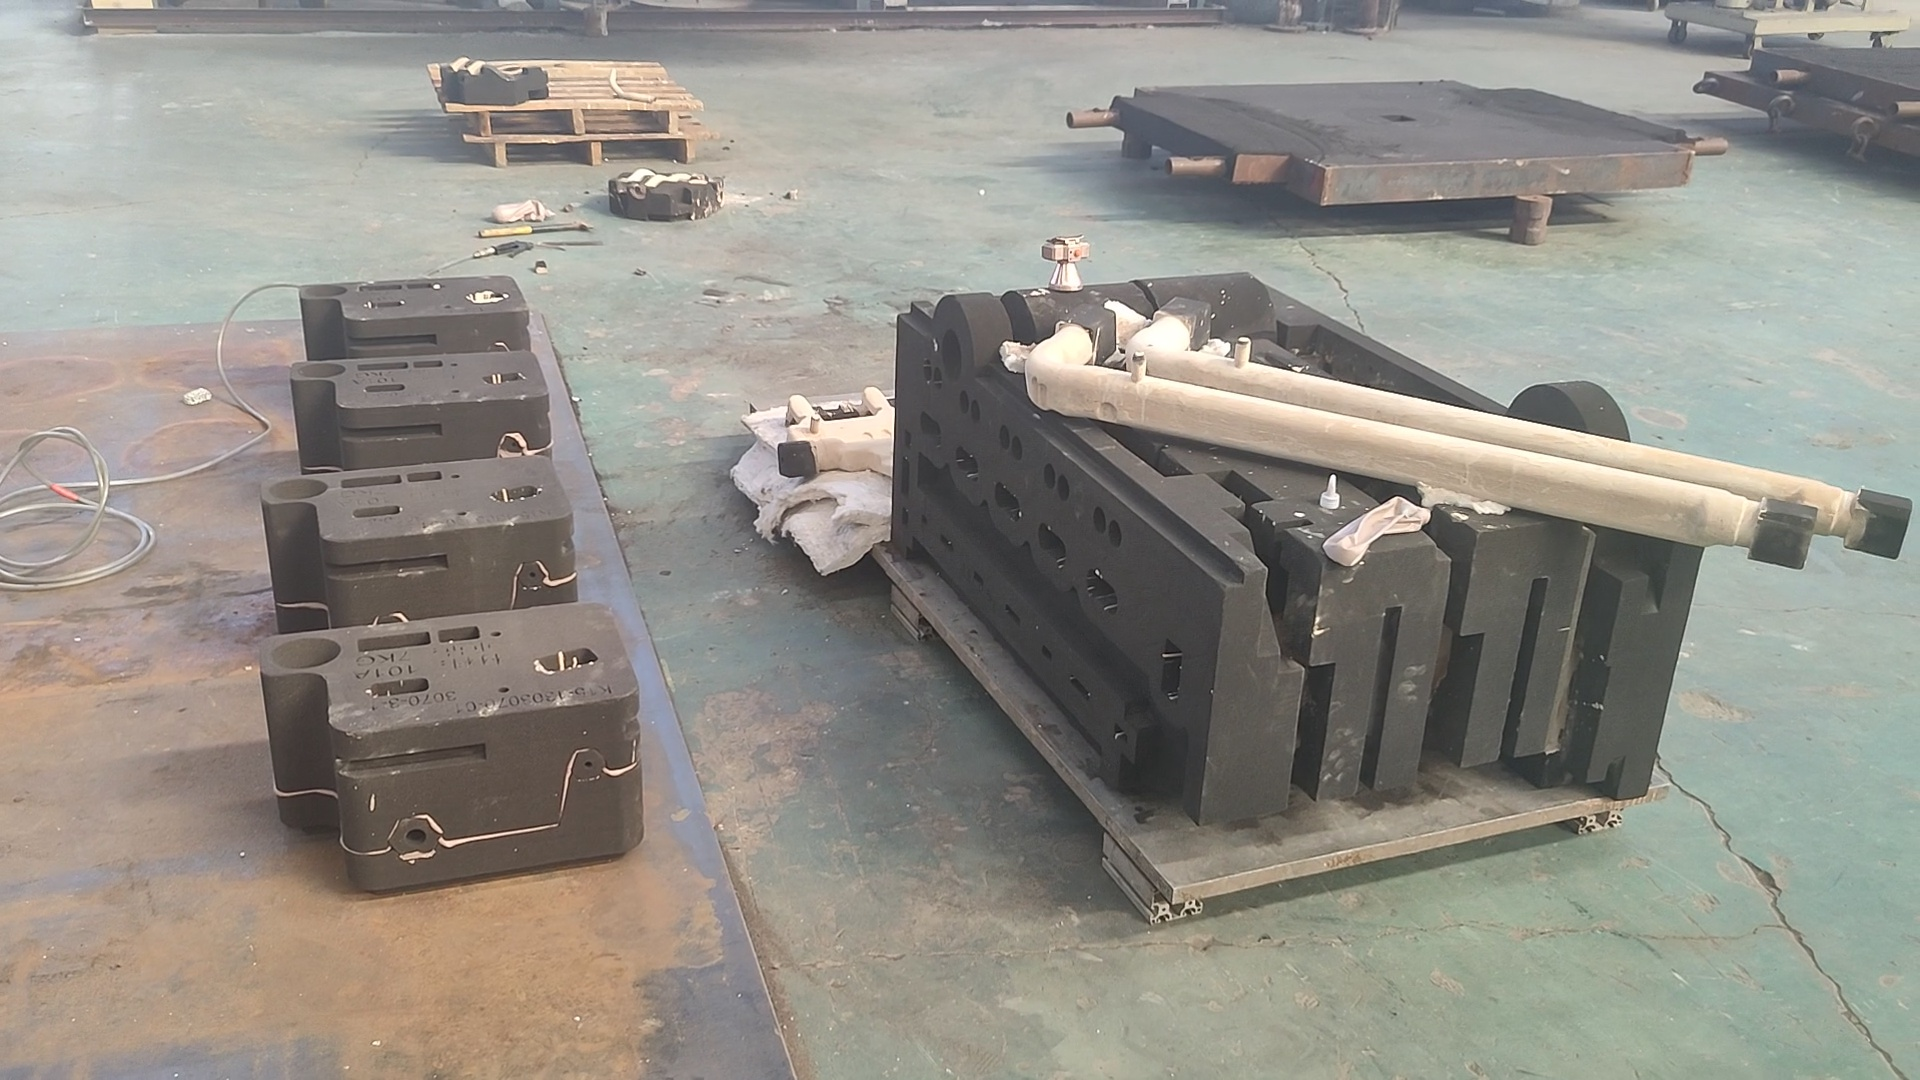pouring hole: (265, 636, 342, 669), (938, 328, 965, 386), (268, 477, 330, 501), (295, 360, 348, 380), (302, 284, 347, 297)
